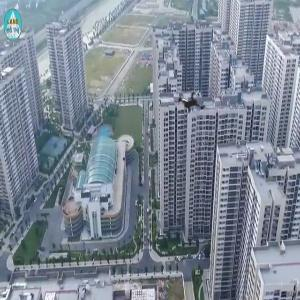drone: (166, 76, 220, 130)
